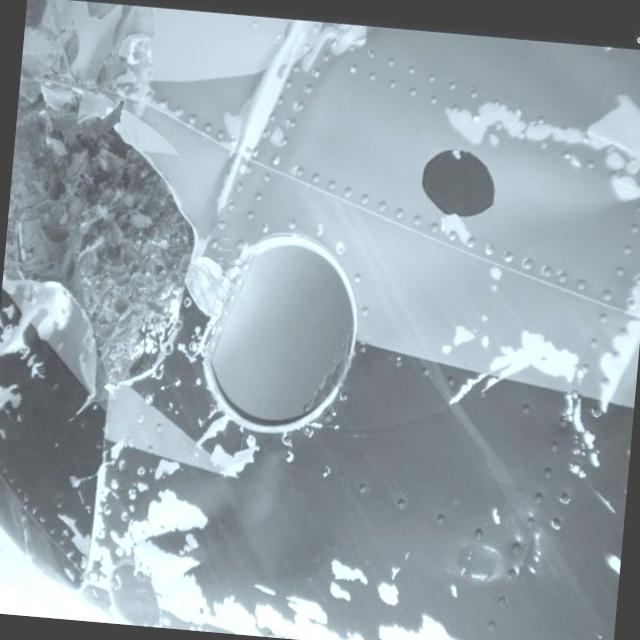dent: (246, 456, 302, 526)
